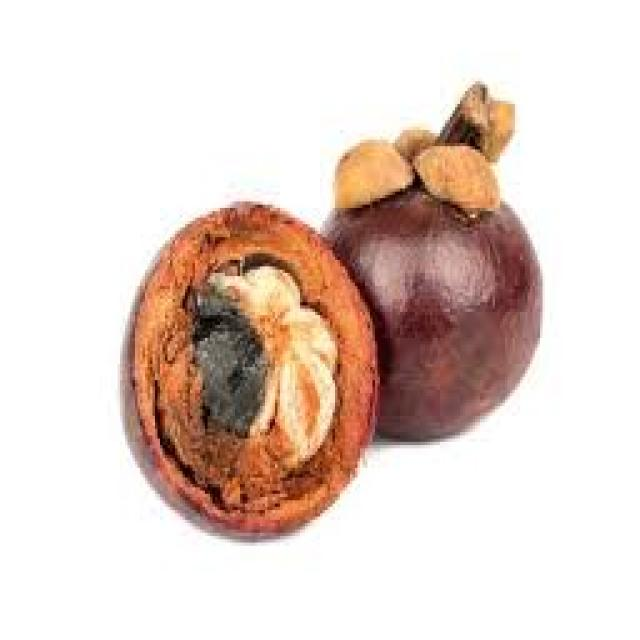organic waste: (117, 198, 375, 536), (315, 78, 540, 439), (190, 257, 332, 471), (275, 344, 333, 462)
